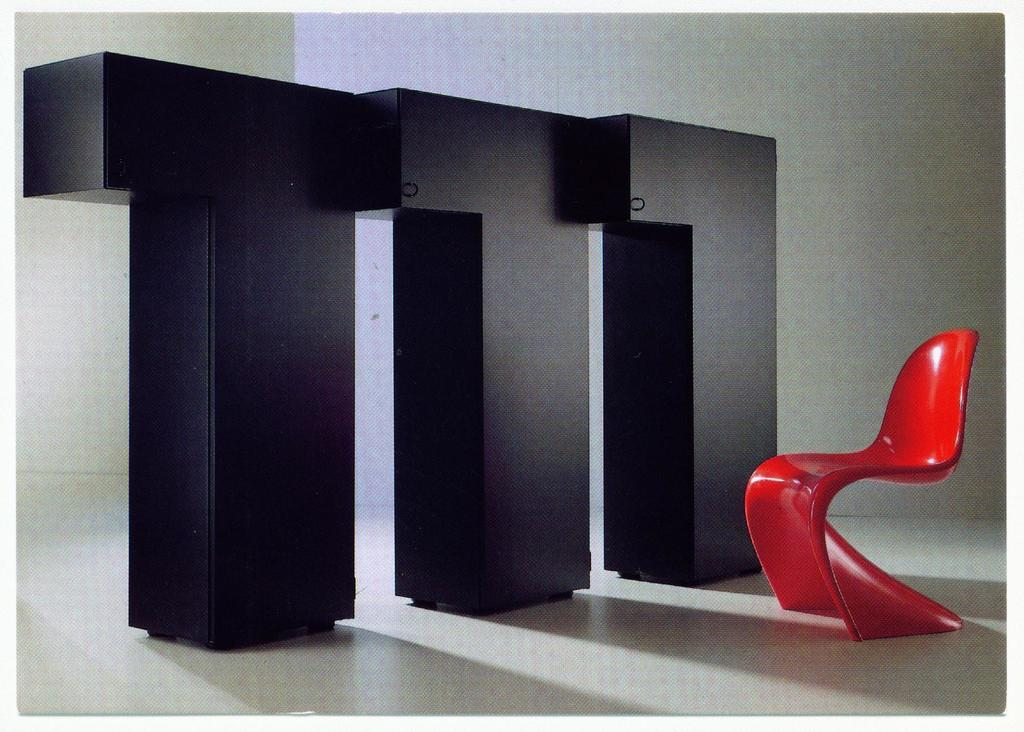Chair: (756, 305, 993, 664)
